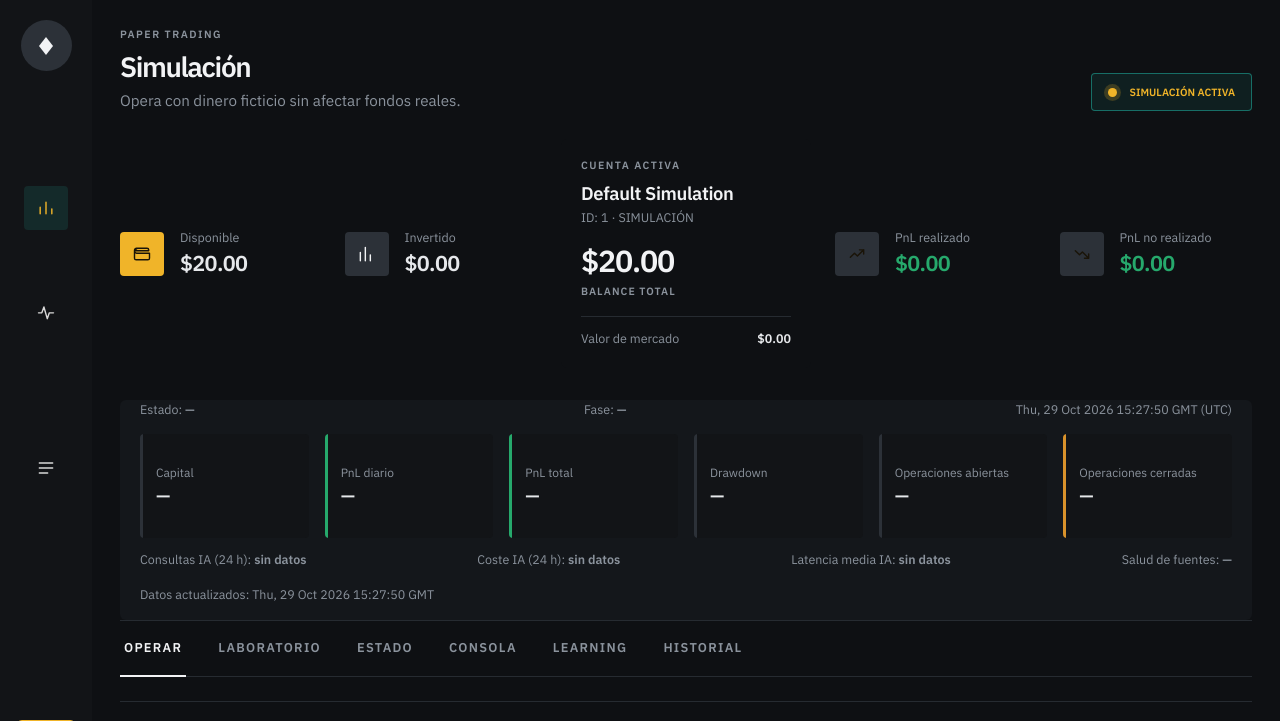
Test: Simulation (NFR accesibilidad, T6) › la pestaña Consola monta el canvas y el recorrido (spec 009)
Click the tab "Consola" at (483,649), box [445,621,521,677]
(page scrolled)
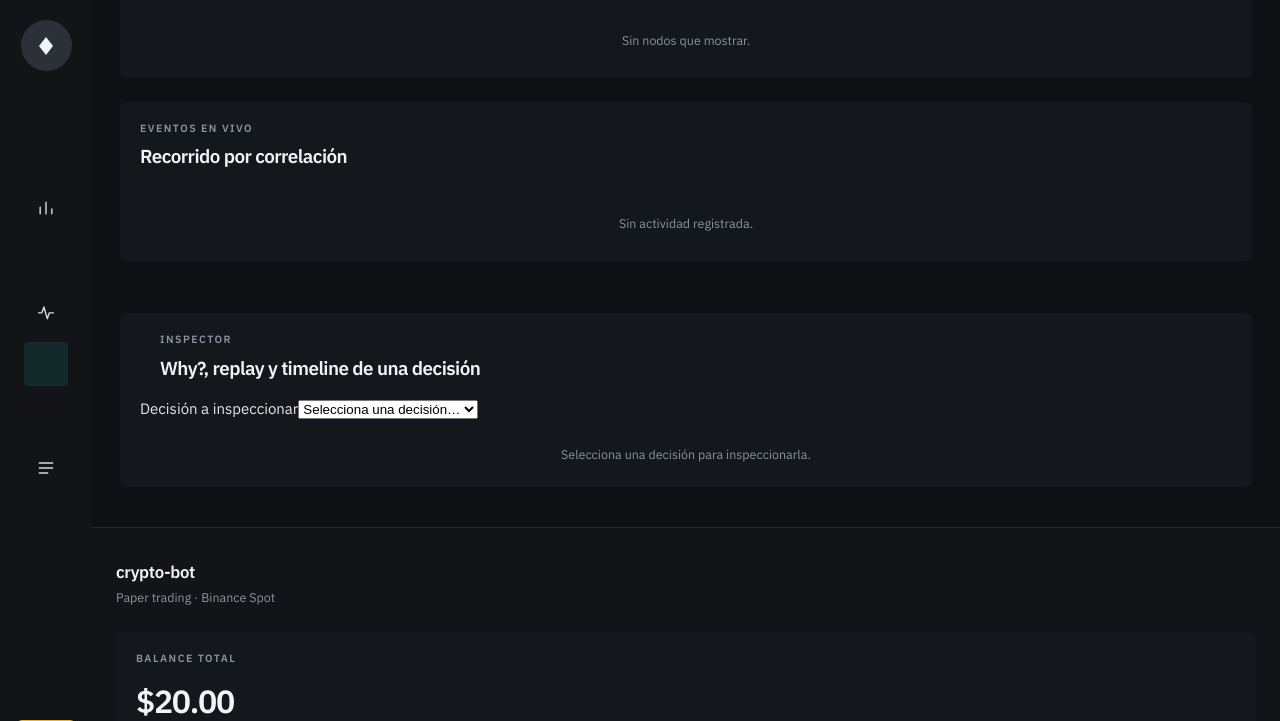
Expected: the element with test id "event-stream" is shown, [120,102,1252,261]
Expected: the element with test id "decision-inspector" is shown, [120,313,1252,487]
